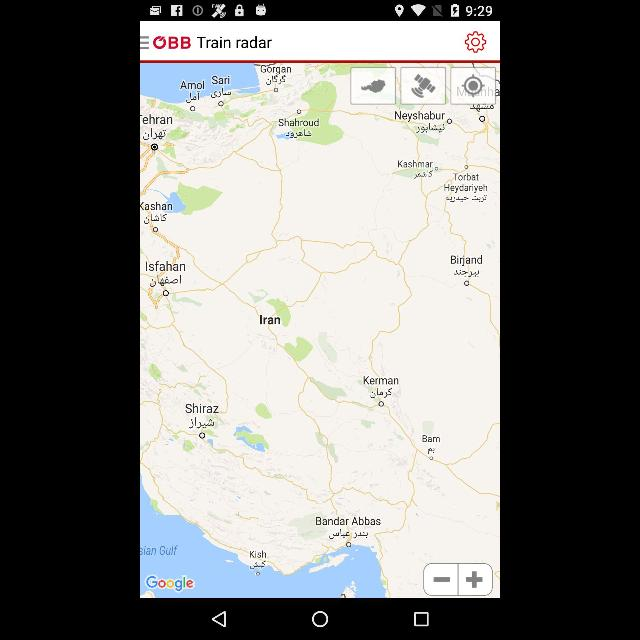icon: (411, 73, 437, 99), (462, 74, 486, 98), (465, 31, 487, 53), (361, 78, 385, 94), (212, 612, 228, 628), (312, 612, 328, 628), (415, 611, 429, 627), (140, 33, 150, 51)
map: (140, 61, 500, 598)
panel: (140, 598, 500, 638)
text: (152, 34, 274, 50)
toolbar: (140, 21, 500, 60)
uppertaskbar: (140, 1, 498, 23)
